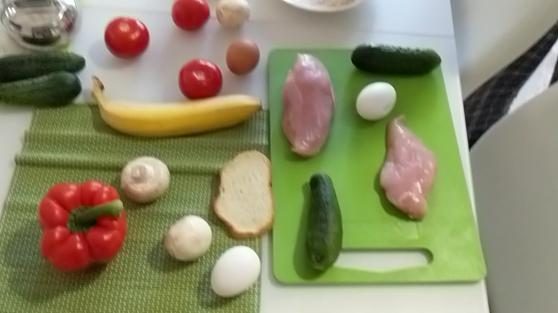banana: (91, 78, 264, 133)
champignon: (118, 155, 172, 204), (165, 215, 211, 263), (215, 1, 249, 26)
chicken_fillet: (377, 115, 433, 221), (283, 51, 335, 157)
cucumber: (303, 170, 344, 271), (350, 43, 442, 74), (2, 73, 83, 101), (1, 49, 87, 73)
egg: (209, 243, 262, 297), (355, 81, 397, 120), (225, 40, 261, 73)
pepper: (40, 180, 129, 271)
tomato: (176, 60, 225, 101), (105, 18, 150, 56), (171, 1, 209, 29)
white_bread: (213, 148, 275, 239)
